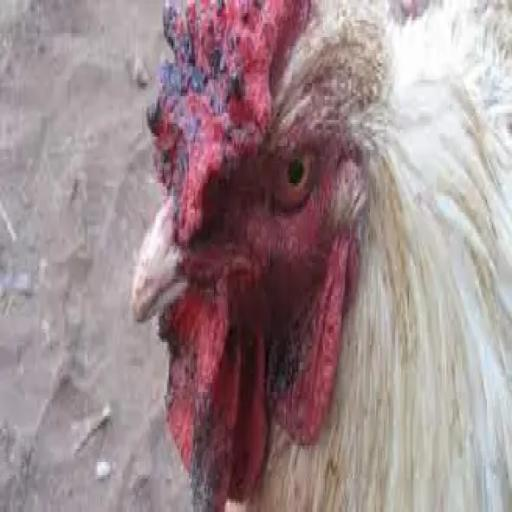disease: (136, 2, 274, 252), (149, 304, 255, 511), (262, 287, 317, 440)
